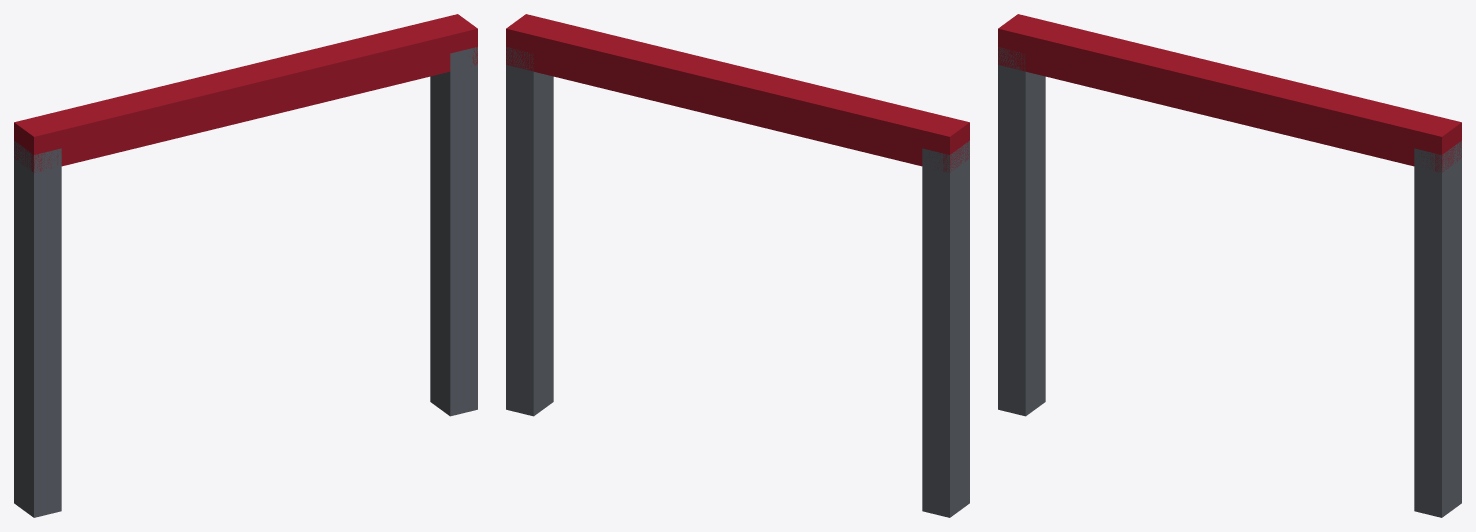
Rendered from citadel_entrance.glb.
The picture shows the model from 3 angles, left to right: view 1: azimuth 30°, elevation 25°; view 2: azimuth 150°, elevation 25°; view 3: azimuth 330°, elevation 25°; orthographic projection.
Visible parts, largest first — view 1: part_2, part_0, part_1; view 2: part_2, part_0, part_1; view 3: part_2, part_1, part_0.
Part boxes in pixels (x1,y1,x2,y2): part_2: [14, 14, 477, 172]; part_0: [14, 140, 61, 517]; part_1: [430, 47, 477, 416]; part_2: [506, 14, 969, 172]; part_0: [922, 140, 969, 517]; part_1: [506, 47, 553, 416]; part_2: [998, 14, 1461, 172]; part_1: [1414, 140, 1461, 517]; part_0: [998, 47, 1045, 416].
Size of the model in its own units: 6.4 by 5.25 by 0.5.
